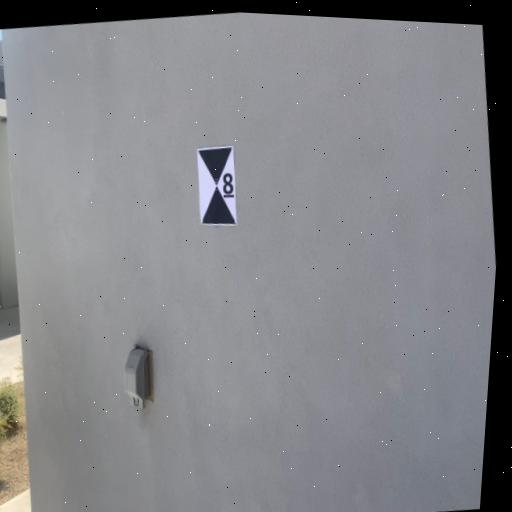target8: (198, 147, 237, 223)
